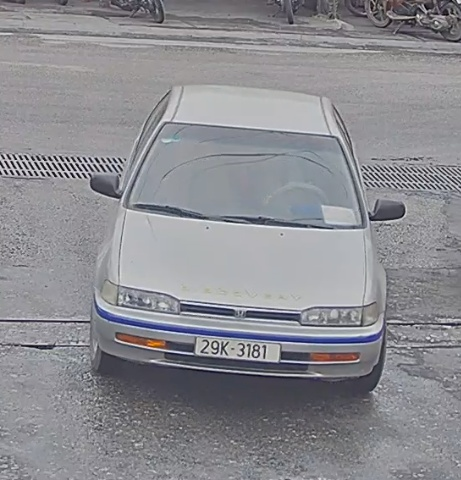vehicle plate: (192, 331, 281, 364)
